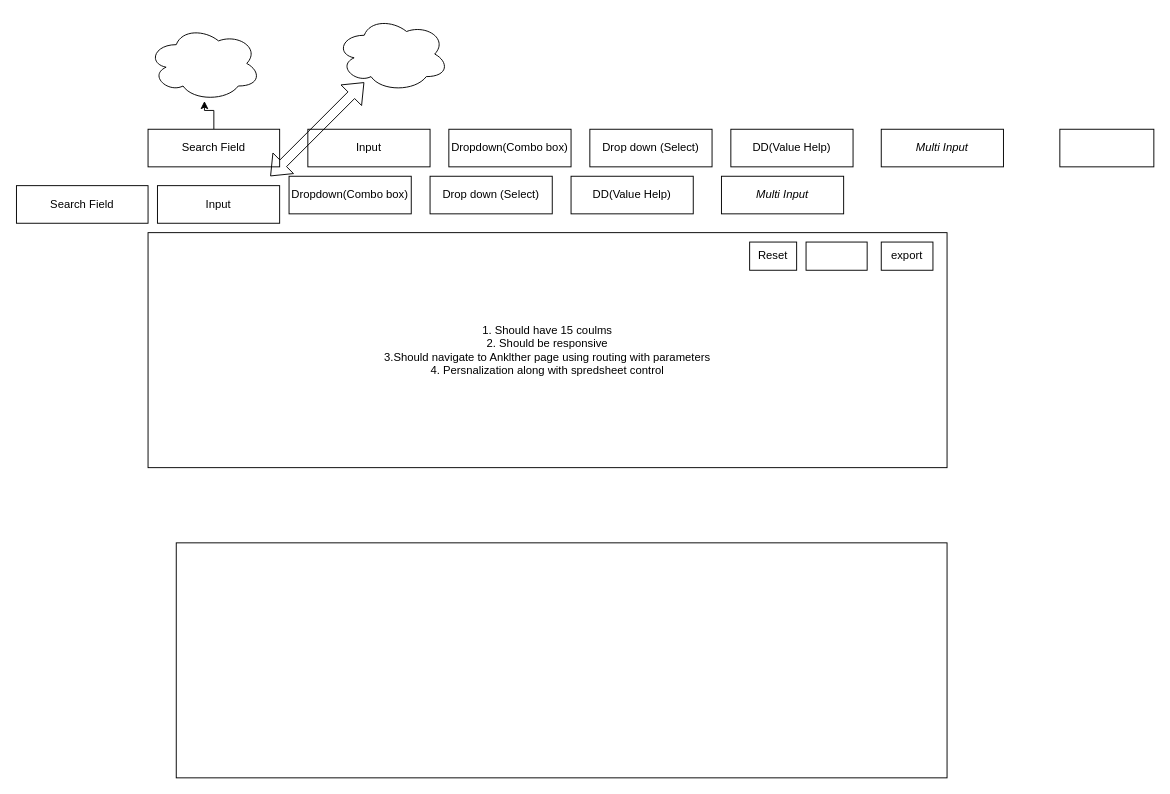
Some shapes in this 1170 by 794 pixel diagram are drawn without their labels. The shapes that lost their labels are listed below. From the top down, each one's centre as x and y in pixels, then its label:
At (204,63): "With Out Filter Bar".
At (392,54): "Filter Bar".
At (1106,147): "Submit".
At (836,255): "Persnalization".
At (561,660): "1.Pie chrt, Do nut, Bar chart".
